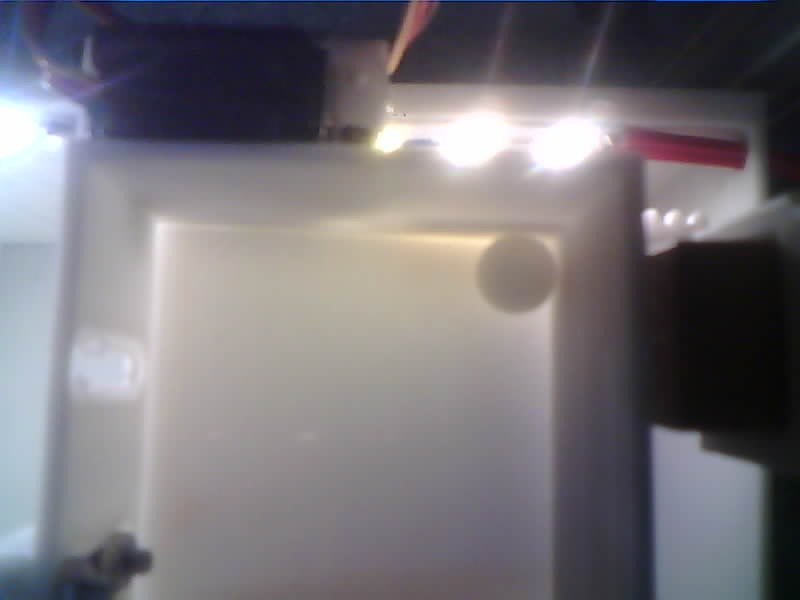Paper: (476, 233, 554, 312)
